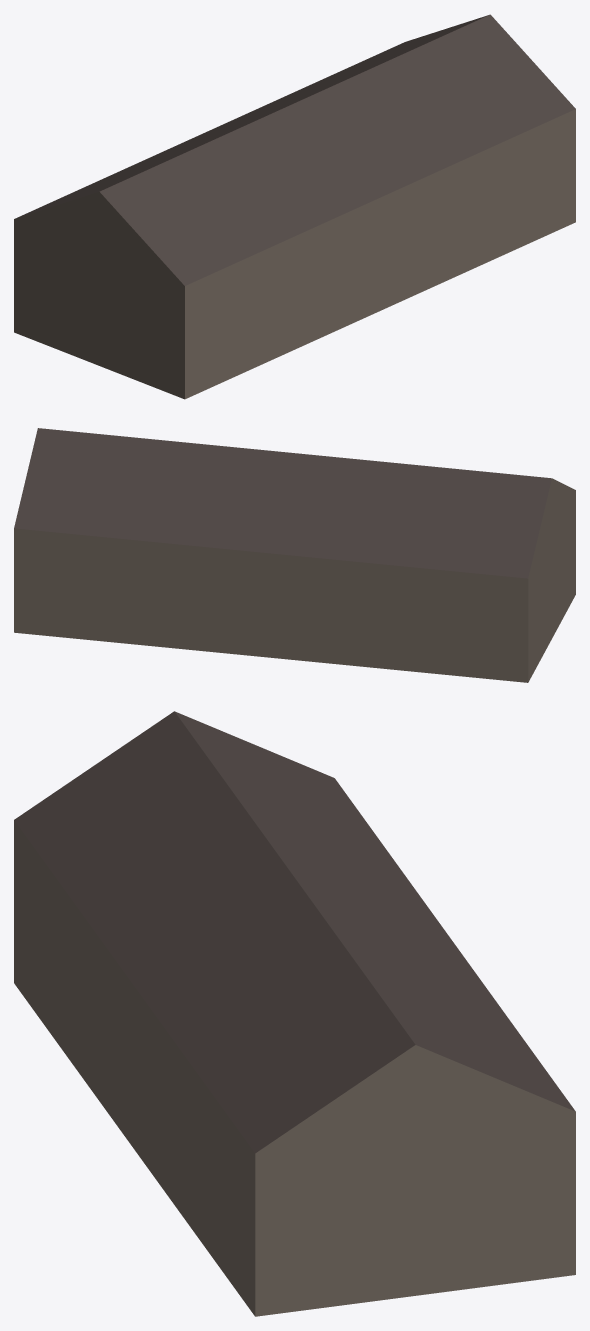
3 renders of one model, top to bottom at view 1: azimuth 30°, elevation 25°; view 2: azimuth 150°, elevation 25°; view 3: azimuth 270°, elevation 25°, orthographic. The views are drawn at different scales.
Parts seen in each view (by area): view 1: HP-w1376988744; view 2: HP-w1376988744; view 3: HP-w1376988744.
Boxes of the visible parts, <box> form: HP-w1376988744: <box>14,14,575,399</box>; HP-w1376988744: <box>14,428,575,682</box>; HP-w1376988744: <box>14,711,575,1316</box>.
Size of the model in its own units: 29.6 by 9.23 by 18.73.
